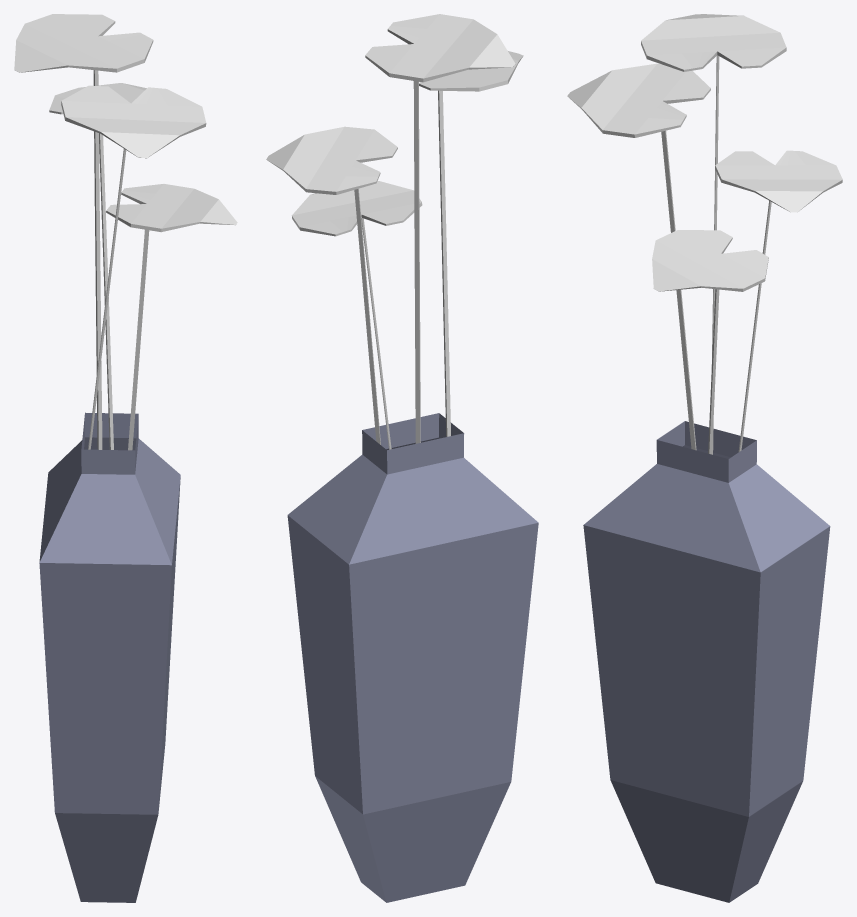
Rendered from plant_two.fbx.
The picture shows the model from 3 angles, left to right: view 1: azimuth 30°, elevation 25°; view 2: azimuth 150°, elevation 25°; view 3: azimuth 270°, elevation 25°; orthographic projection. The views are drawn at different scales.
Parts seen in each view (by area): view 1: Cube.004; view 2: Cube.004; view 3: Cube.004.
Boxes of the visible parts, x1,y1,x2,y2 form: Cube.004: (14, 14, 237, 902); Cube.004: (266, 14, 538, 902); Cube.004: (567, 14, 842, 902).
Size of the model in its own units: 78.62 by 312 by 93.74.
